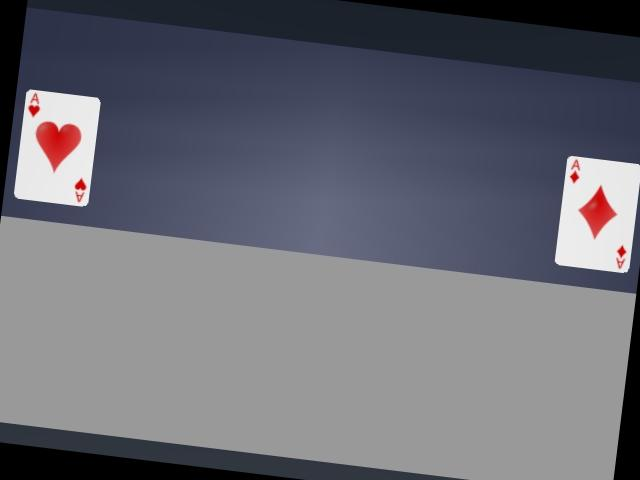diamond: (555, 156, 639, 272)
heart: (14, 90, 100, 206)
